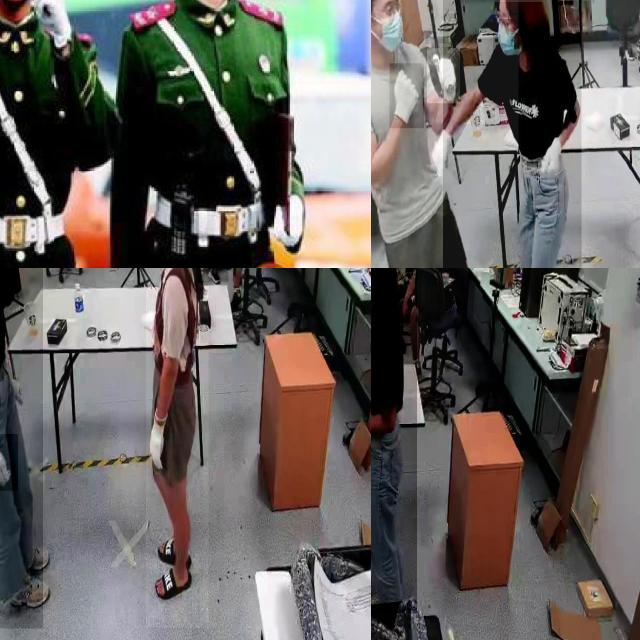face_mask: (371, 6, 405, 54), (493, 19, 519, 67)
hand_glove: (390, 64, 424, 128), (144, 408, 176, 470), (271, 196, 307, 249), (27, 0, 70, 43), (427, 48, 460, 104), (539, 137, 565, 194), (430, 126, 452, 184), (0, 434, 18, 492)
hand_noglove: (400, 300, 410, 324)
person: (102, 0, 322, 268), (371, 0, 519, 268), (443, 0, 582, 268), (0, 0, 116, 268), (146, 268, 209, 628), (371, 268, 417, 614), (0, 268, 43, 629), (402, 268, 455, 389)
shoes: (6, 570, 52, 614), (16, 534, 51, 576)
